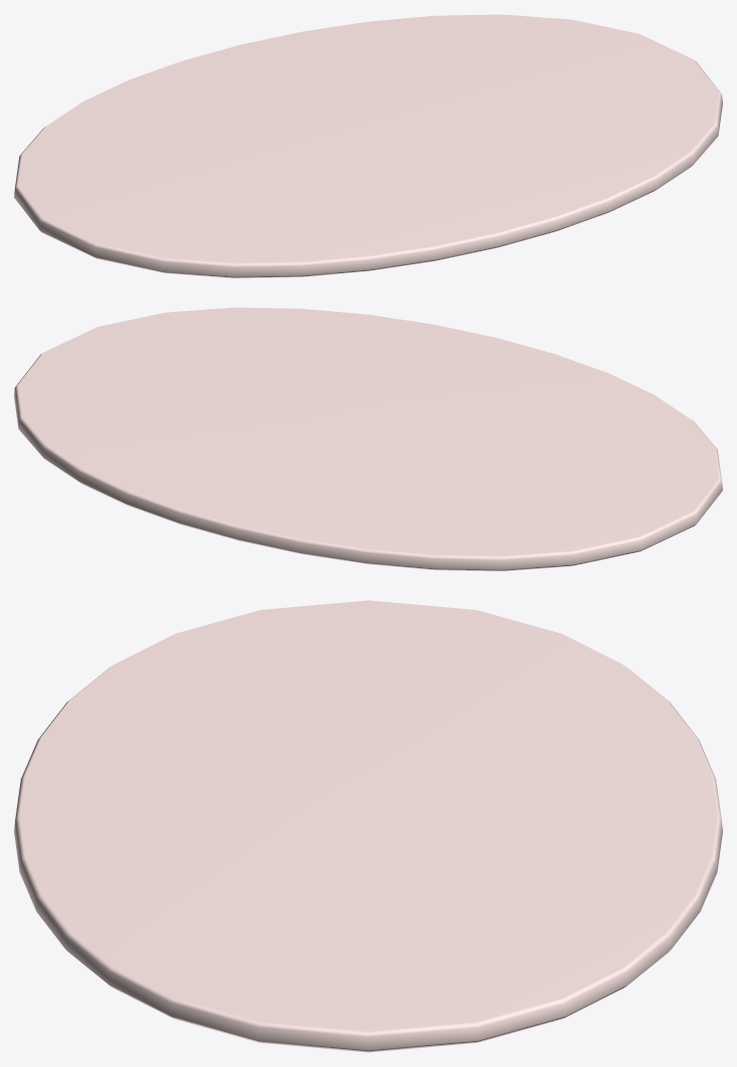
Rendered from Store_16_Plate_1.glb.
3 views of the same model, one above another, from view 1: azimuth 30°, elevation 25°; view 2: azimuth 150°, elevation 25°; view 3: azimuth 270°, elevation 25° (orthographic). The views are drawn at different scales.
Visible parts, largest first — view 1: Store_16_Plate_1; view 2: Store_16_Plate_1; view 3: Store_16_Plate_1.
Part boxes in pixels (x1,y1,x2,y2): Store_16_Plate_1: (14,14,722,278); Store_16_Plate_1: (14,307,722,571); Store_16_Plate_1: (14,600,722,1052).
Size of the model in its own units: 0.6486 by 0.0465 by 0.4457.
1 material, 1 textured.
